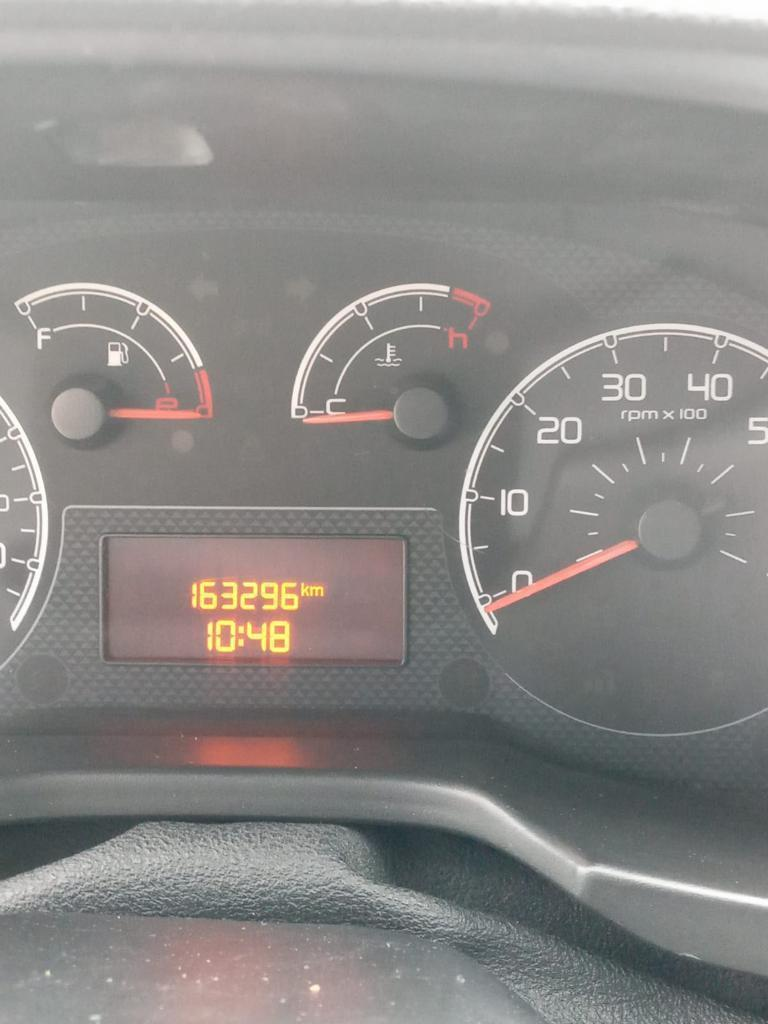0: (214, 618, 236, 652)
1: (204, 619, 213, 651), (188, 580, 197, 609)
2: (239, 581, 258, 611)
3: (219, 579, 238, 611)
4: (245, 619, 267, 652)
6: (198, 578, 219, 610), (280, 580, 299, 611)
8: (268, 619, 291, 654)
9: (259, 581, 279, 610)
X: (236, 623, 244, 648), (309, 584, 324, 597), (300, 580, 309, 598)
odometer: (98, 531, 409, 668)
